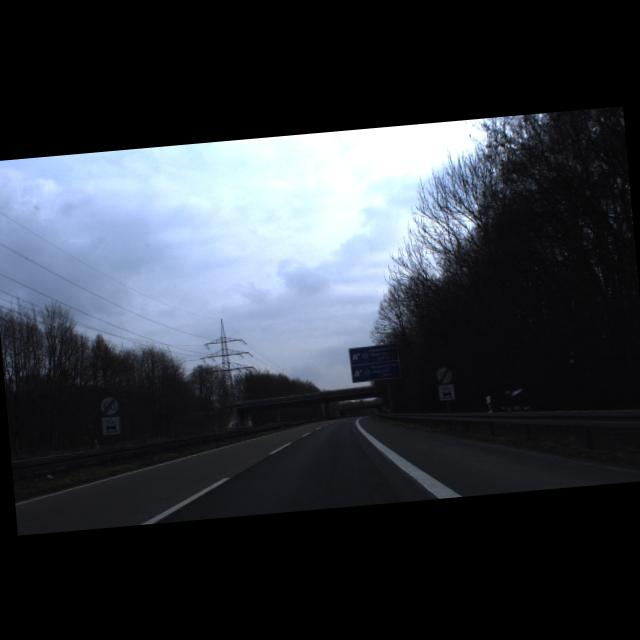other: (98, 394, 119, 416), (434, 366, 452, 384)
